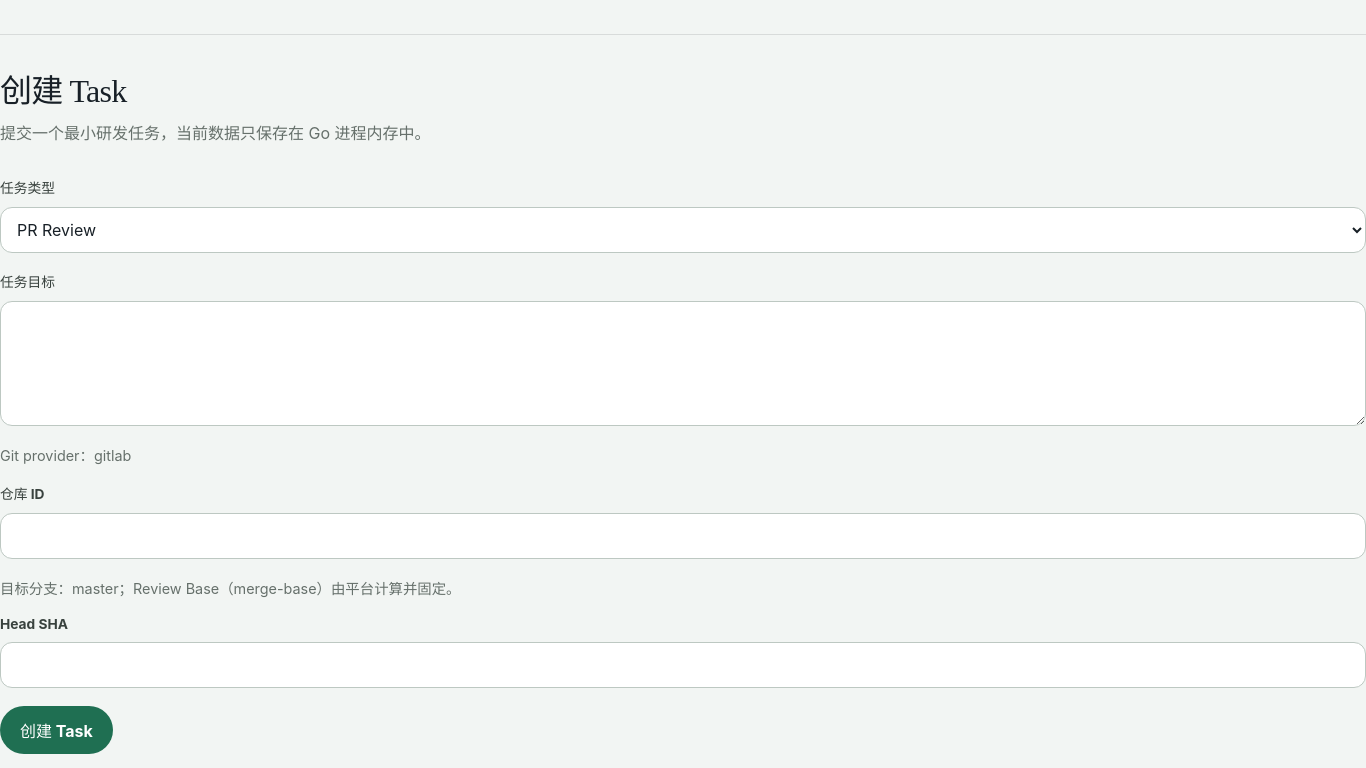
TaskCreator › creates a task and shows the server result
In the text box labelled "任务目标": (683,363) 0,301 -> 1365,426, type "Review pull request 42"
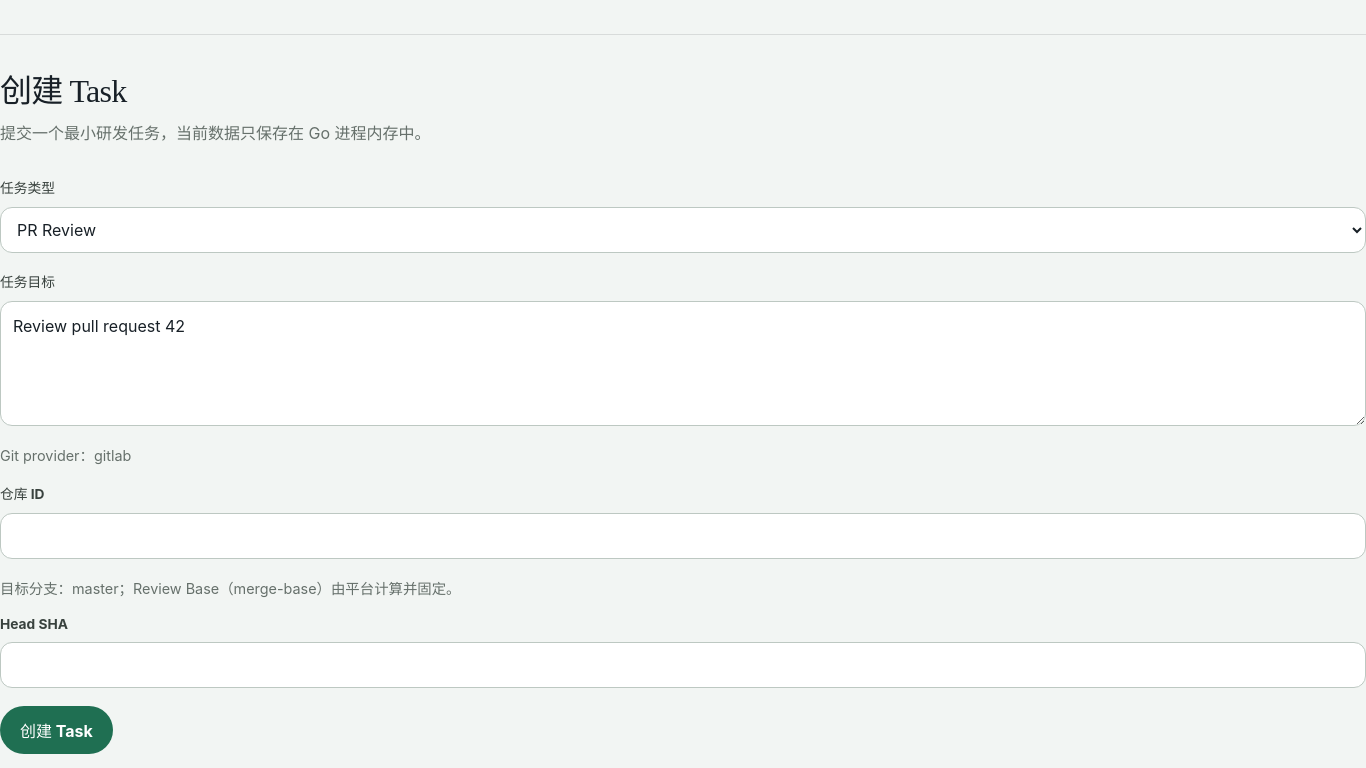
In the field labelled "仓库 ID": (683,536) 0,513 -> 1365,559, type "platform/project-7"
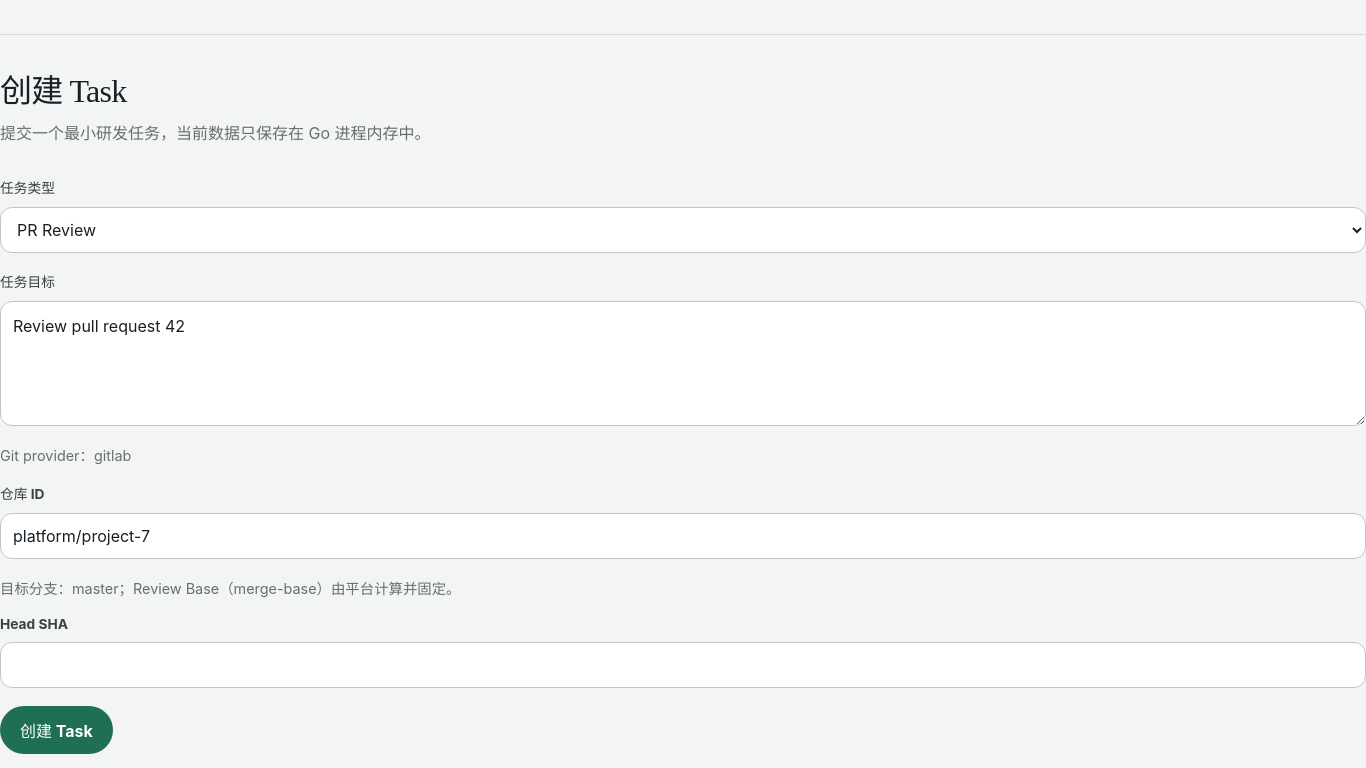
In the field labelled "Head SHA": (683,665) 0,642 -> 1365,688, type "2222222222222222222222222222222222222222"
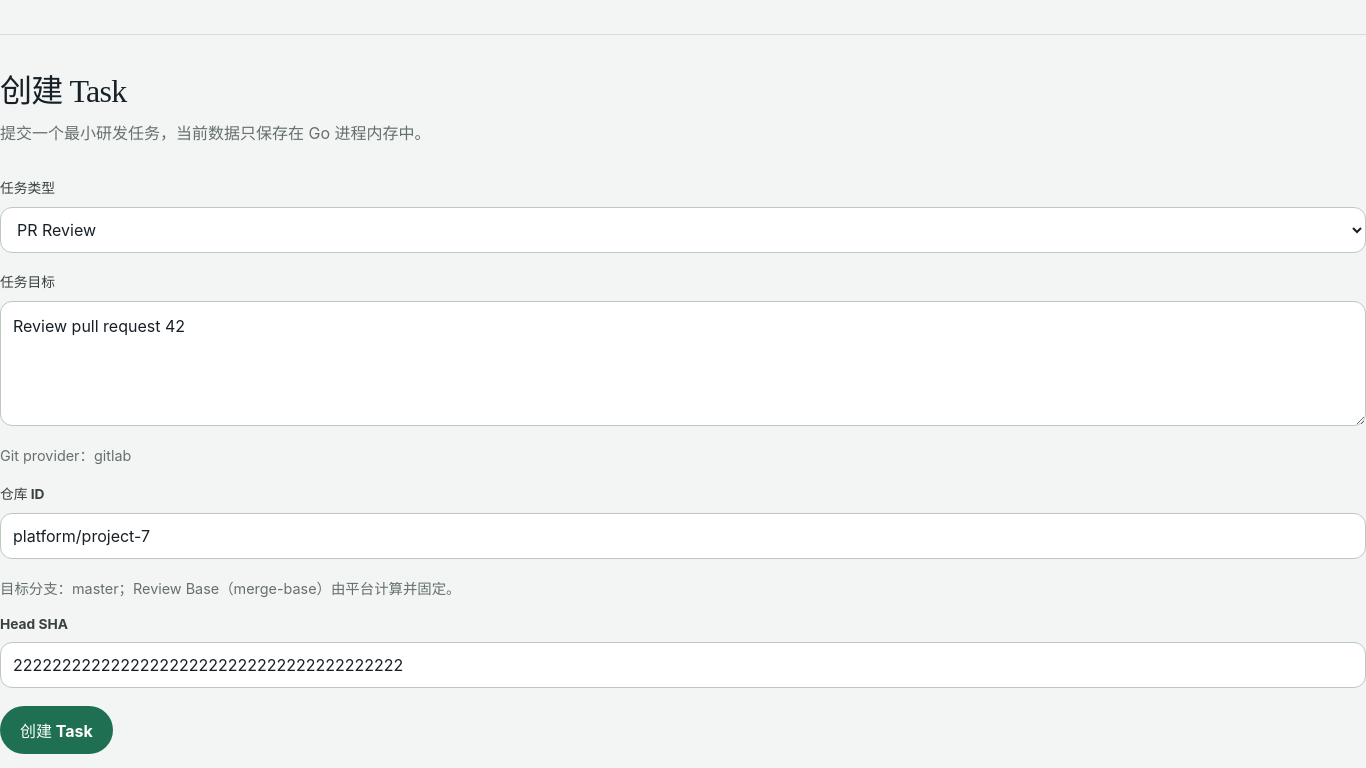
Click the button "创建 Task": (56,730) 0,706 -> 113,754
(page scrolled)
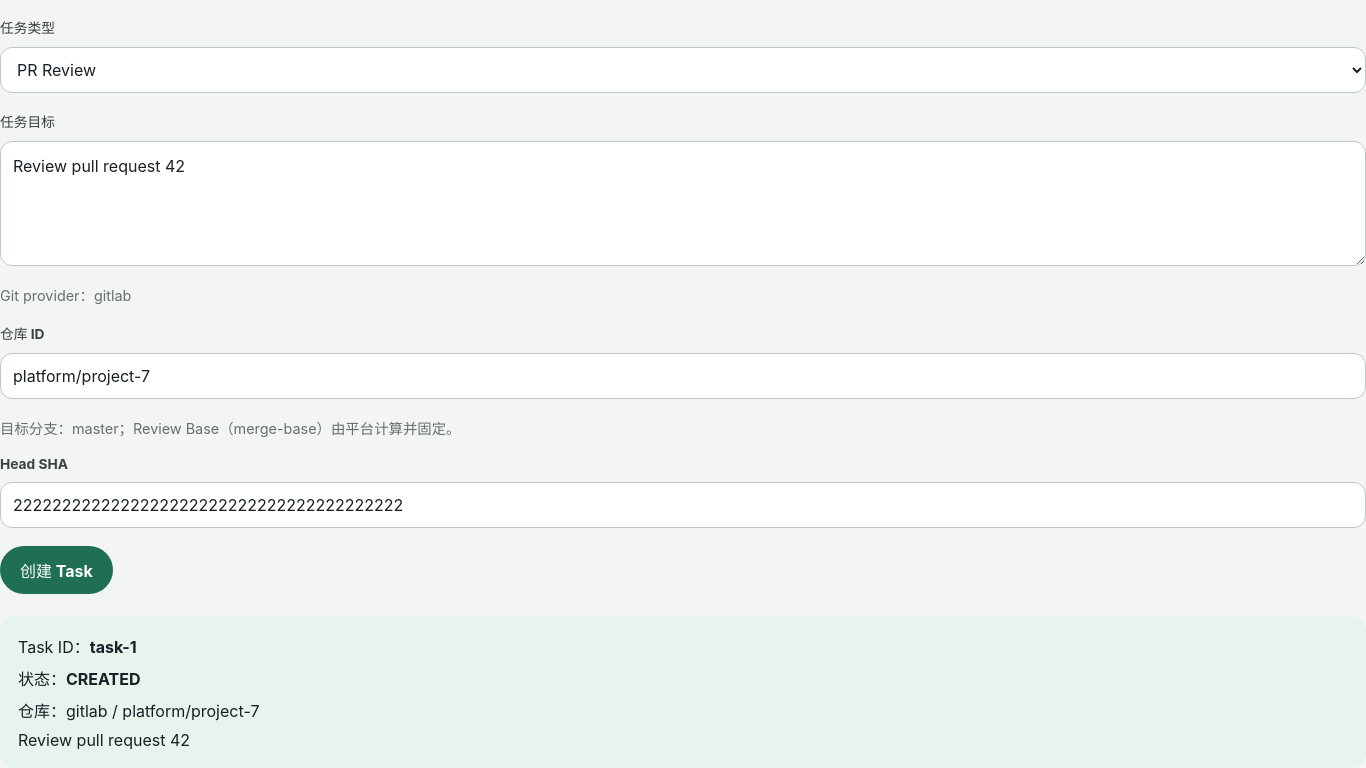
Check: the text "task-1" is shown, box 90,637 -> 137,657
Check: the text "CREATED" is shown, box 66,669 -> 140,689
